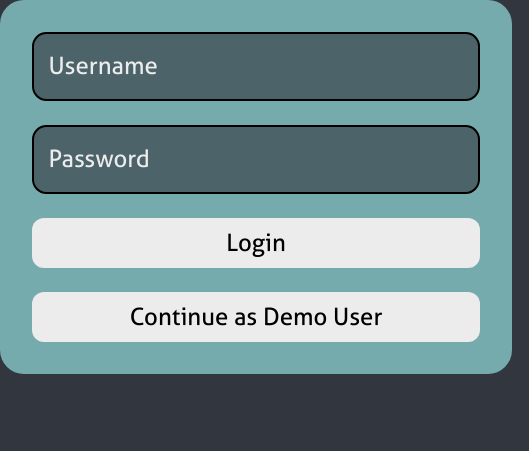
<LoginForm /> › fetching logic › Loads up api messages
Click the field named "Username input": click(256, 66) [32,32,480,101]
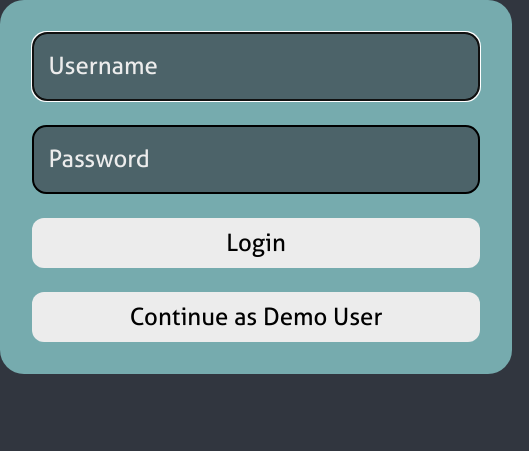
Type keys "userThatIsNotInDb"
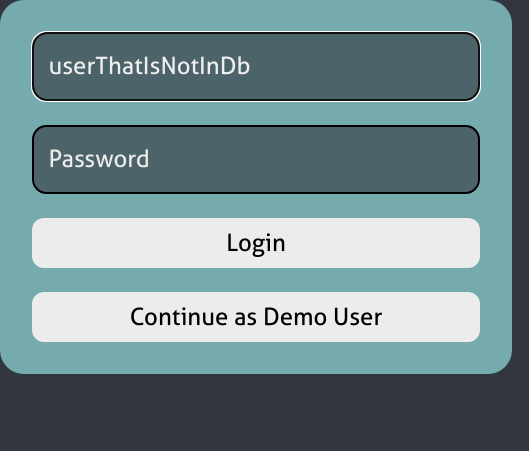
Click the password field named "Password input": click(256, 159) [32,125,480,194]
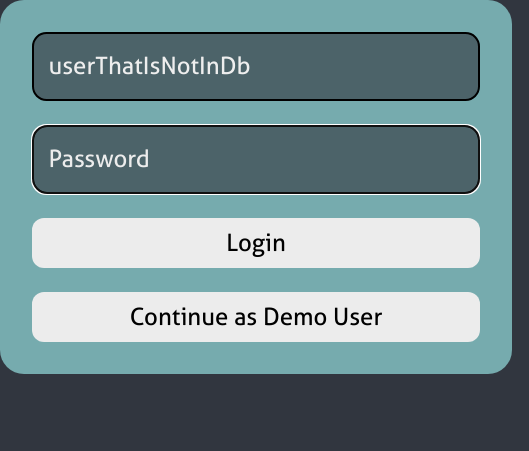
Type keys "somePassword"
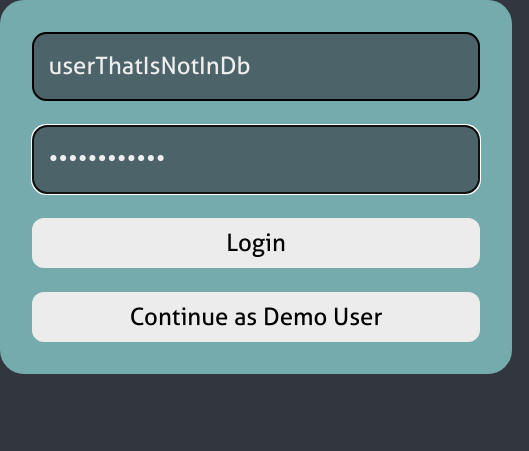
Click the button "Login": click(256, 243) [32,218,480,268]
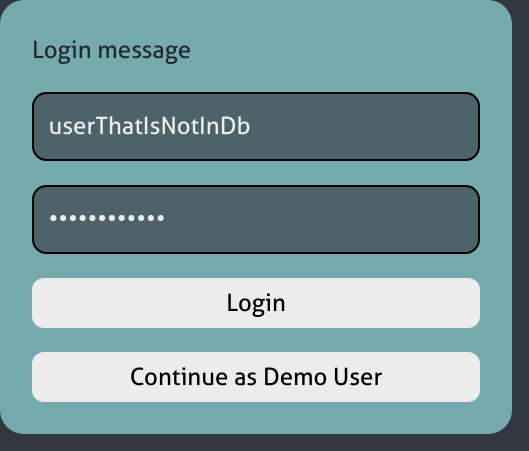
Check: the text labelled "Login message" is shown, box [32,35,191,64]
